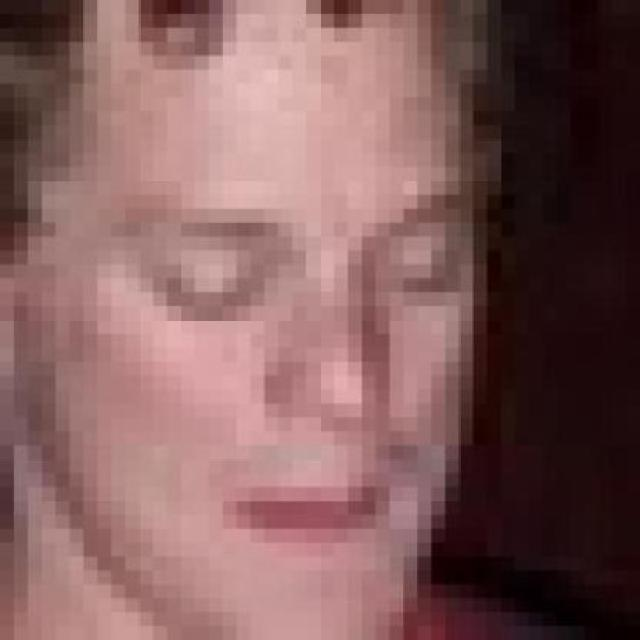drowsy: (162, 266, 250, 332), (386, 257, 456, 305)
